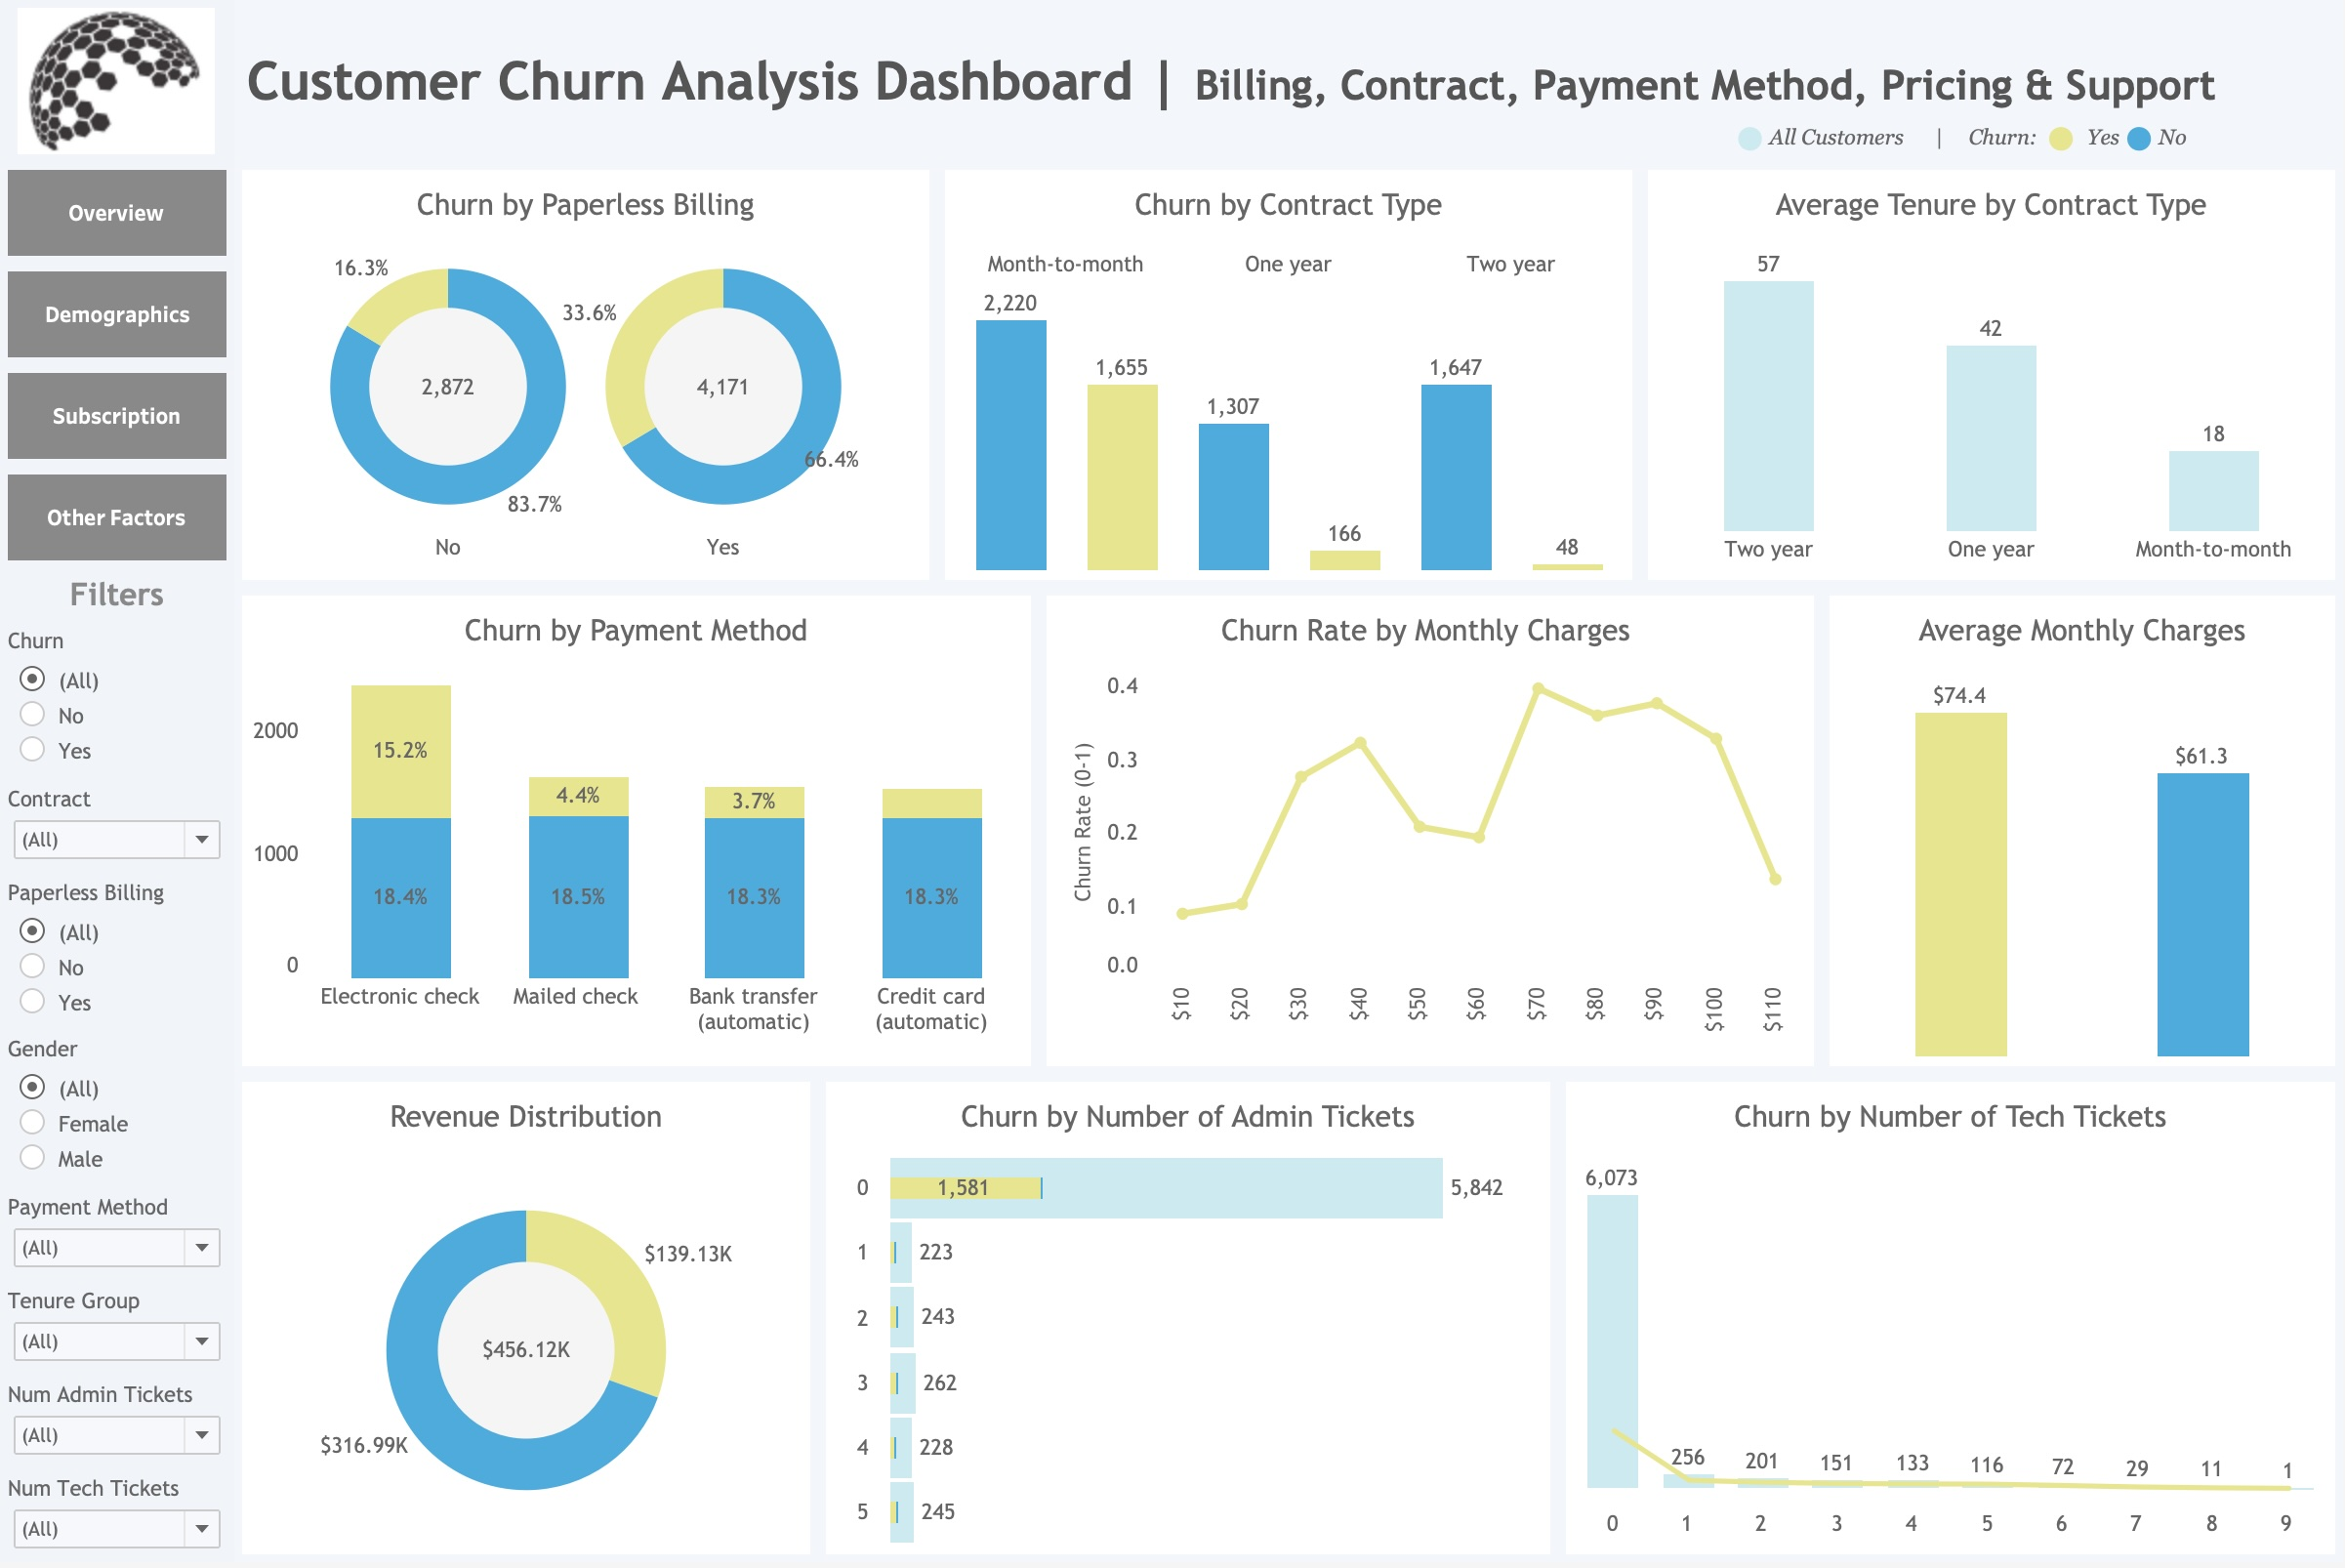

This screenshot's page, from the dashboard's own definition file:
{"tool":"tableau","page":{"name":"Billing, Contract & Payment","canvas":[1200,800],"ordinal":0},"visuals":[{"type":"image","param":"Image/Screenshot 2025-07-18 at 7.56.09 PM.png","box":[0,0,120,83]},{"type":"text","box":[120,0,1080,83]},{"type":"text","box":[887,60,306,21]},{"type":"dashboard-object","box":[0,83,120,52]},{"type":"worksheet","title":"Churn by Paperless Billing","mark":"Pie","rows":["Calculation_4873105934619631618","Calculation_4873105934619709444"],"cols":["PaperlessBilling"],"box":[120,83,360,218]},{"type":"worksheet","title":"Churn by Contract Type","mark":"Automatic","rows":["customerID"],"cols":["Contract","Churn"],"box":[480,83,360,218]},{"type":"worksheet","title":"Average Tenure by Contract Type","mark":"Bar","rows":["tenure"],"cols":["Contract"],"box":[840,83,360,218]},{"type":"dashboard-object","box":[0,135,120,52]},{"type":"dashboard-object","box":[0,187,120,52]},{"type":"dashboard-object","box":[0,239,120,52]},{"type":"text","box":[0,291,120,27]},{"type":"worksheet","title":"Churn by Payment Method","mark":"Automatic","rows":["customerID"],"cols":["PaymentMethod"],"box":[120,301,412,249.5]},{"type":"worksheet","title":"Churn Rate by Monthly Charges ","mark":"Line","rows":["Calculation_2054767361538183170"],"cols":["MonthlyCharges (bin)"],"box":[532,301,401,249.5]},{"type":"worksheet","title":"Average Monthly Charges","mark":"Automatic","rows":["MonthlyCharges"],"cols":["Churn"],"box":[933,301,267,249.5]},{"type":"filter","title":"Churn by Paperless Billing","param":"[federated.00i3pks088phsx120ps0f1dvn0i1].[none:Churn:nk]","box":[0,318,120,80.7]},{"type":"filter","title":"Churn by Paperless Billing","param":"[federated.00i3pks088phsx120ps0f1dvn0i1].[none:Contract:nk]","box":[0,398.7,120,48]},{"type":"filter","title":"Churn by Paperless Billing","param":"[federated.00i3pks088phsx120ps0f1dvn0i1].[none:PaperlessBilling:nk]","box":[0,446.7,120,80.7]},{"type":"filter","title":"Churn by Paperless Billing","param":"[federated.00i3pks088phsx120ps0f1dvn0i1].[none:gender:nk]","box":[0,527.3,120,80.7]},{"type":"worksheet","title":"Revenue Distribution","mark":"Pie","rows":["Calculation_3813000804906414084","Calculation_3813000804906414084"],"box":[120,550.5,299,249.5]},{"type":"worksheet","title":"Churn by Number of Admin Tickets","mark":"Bar","rows":["numAdminTickets"],"cols":["customerID","Calculation_2054767361532485633"],"box":[419,550.5,379,249.5]},{"type":"worksheet","title":"Churn by Number of Tech Tickets","mark":"Bar","rows":["customerID","Calculation_2054767361532485633"],"cols":["numTechTickets"],"box":[798,550.5,401.9,249.5]},{"type":"filter","title":"Churn by Paperless Billing","param":"[federated.00i3pks088phsx120ps0f1dvn0i1].[none:PaymentMethod:nk]","box":[0,608,120,48]},{"type":"filter","title":"Churn by Paperless Billing","param":"[federated.00i3pks088phsx120ps0f1dvn0i1].[none:Calculation_2054767361529266176:n","box":[0,656,120,48]},{"type":"filter","title":"Churn by Number of Admin Tickets","param":"[federated.00i3pks088phsx120ps0f1dvn0i1].[none:numAdminTickets:ok]","box":[0,704,120,48]},{"type":"filter","title":"Churn by Number of Tech Tickets","param":"[federated.00i3pks088phsx120ps0f1dvn0i1].[none:numTechTickets:ok]","box":[0,752,120,48]}]}

Visuals, with their boxes in screenshot pixels (x1, y1, x2, y2), scaled from the page's 1200x800 canvas onto the 2345x1568 screenshot:
image: region(0, 0, 234, 163)
text: region(234, 0, 2344, 163)
text: region(1733, 117, 2331, 159)
dashboard-object: region(0, 163, 234, 265)
"Churn by Paperless Billing" worksheet (Pie marks): region(234, 163, 938, 590)
"Churn by Contract Type" worksheet: region(938, 163, 1641, 590)
"Average Tenure by Contract Type" worksheet (Bar marks): region(1641, 163, 2344, 590)
dashboard-object: region(0, 265, 234, 366)
dashboard-object: region(0, 366, 234, 469)
dashboard-object: region(0, 469, 234, 570)
text: region(0, 570, 234, 623)
"Churn by Payment Method" worksheet: region(234, 590, 1040, 1079)
"Churn Rate by Monthly Charges " worksheet (Line marks): region(1040, 590, 1824, 1079)
"Average Monthly Charges" worksheet: region(1824, 590, 2344, 1079)
"Churn by Paperless Billing" filter: region(0, 623, 234, 781)
"Churn by Paperless Billing" filter: region(0, 781, 234, 876)
"Churn by Paperless Billing" filter: region(0, 876, 234, 1034)
"Churn by Paperless Billing" filter: region(0, 1034, 234, 1192)
"Revenue Distribution" worksheet (Pie marks): region(234, 1079, 819, 1567)
"Churn by Number of Admin Tickets" worksheet (Bar marks): region(819, 1079, 1559, 1567)
"Churn by Number of Tech Tickets" worksheet (Bar marks): region(1559, 1079, 2344, 1567)
"Churn by Paperless Billing" filter: region(0, 1192, 234, 1286)
"Churn by Paperless Billing" filter: region(0, 1286, 234, 1380)
"Churn by Number of Admin Tickets" filter: region(0, 1380, 234, 1474)
"Churn by Number of Tech Tickets" filter: region(0, 1474, 234, 1567)
